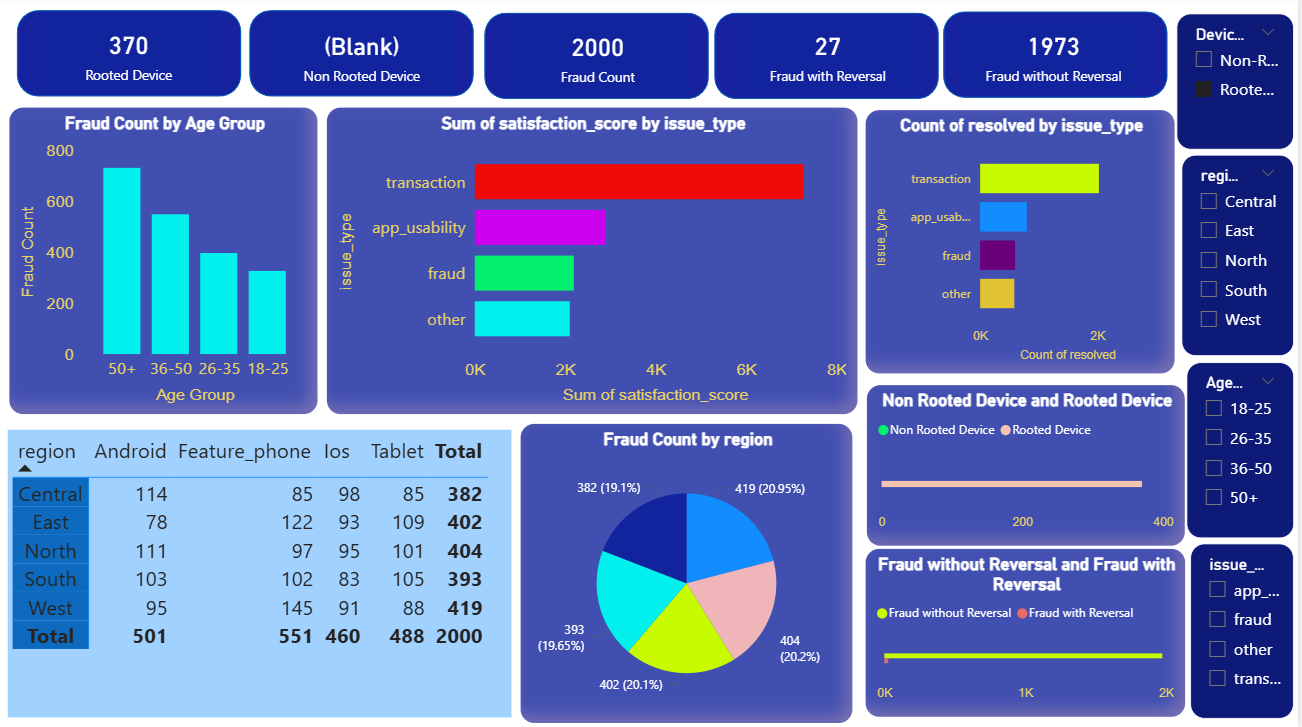

Layout of this report page (visuals, bound fields, positions):
{"tool":"powerbi","page":{"name":"Fraud Analysis-2","canvas":[1280,720],"ordinal":4},"visuals":[{"type":"shape","box":[922.5,6.3,238.2,102.8],"z":0,"group":"g1"},{"type":"clusteredColumnChart","fields":{"Category":["customer_master.Age Group"],"Y":["upi_transaction_history.Fraud Count"]},"box":[13.5,108,305.5,304.3],"z":0},{"type":"shape","box":[242.3,4.9,238.2,102.8],"z":1000,"group":"g1"},{"type":"pieChart","fields":{"Category":["customer_master.region"],"Y":["upi_transaction_history.Fraud Count"]},"box":[515.3,418.4,328.8,296.9],"z":1000},{"type":"shape","box":[472.7,7.6,238.2,102.8],"z":2000,"group":"g1"},{"type":"clusteredBarChart","fields":{"Y":["upi_transaction_history.Fraud without Reversal","upi_transaction_history.Fraud with Reversal"]},"box":[854,541.1,316.6,168.1],"z":2000},{"type":"group","id":"g1","title":"Group 1","box":[13.5,4.9,1147.2,105.5],"z":3000},{"type":"shape","box":[698.4,7.6,238.2,102.8],"z":3000,"group":"g1"},{"type":"shape","box":[13.5,4.9,238.2,102.8],"z":4000,"group":"g1"},{"type":"clusteredBarChart","fields":{"Y":["device_info.Non Rooted Device","device_info.Rooted Device"]},"box":[855.2,380.4,315.3,160.7],"z":4000},{"type":"card","fields":{"Values":["upi_transaction_history.Fraud Count"]},"box":[504.1,19.8,177.1,78.5],"z":5000,"group":"g1"},{"type":"clusteredBarChart","fields":{"Category":["customer_feedback_surveys.issue_type"],"Y":["Sum(customer_feedback_surveys.satisfaction_score)"]},"box":[325.2,108,523.9,304.3],"z":5000},{"type":"card","fields":{"Values":["device_info.Non Rooted Transactions"]},"box":[269,18.4,184.9,78.5],"z":6000,"group":"g1"},{"type":"pivotTable","fields":{"Values":["Sum(upi_transaction_history.fraud_flag)"],"Rows":["customer_master.region"],"Columns":["upi_transaction_history.device_type"]},"box":[13.5,425.8,494.5,282.2],"z":6000},{"type":"card","fields":{"Values":["device_info.Rooted Transactions"]},"box":[43.3,17.1,178.7,78.5],"z":7000,"group":"g1"},{"type":"slicer","fields":{"Values":["device_info.Device Type"]},"box":[1160.7,17.2,115.3,133.7],"z":7000},{"type":"card","fields":{"Values":["upi_transaction_history.Fraud with Reversal"]},"box":[729.7,19.8,177.1,75.8],"z":8000,"group":"g1"},{"type":"slicer","fields":{"Values":["customer_master.region"]},"box":[1165.7,155.8,110.4,197.5],"z":8000},{"type":"card","fields":{"Values":["upi_transaction_history.Fraud without Reversal"]},"box":[948.5,24.9,183.4,66.3],"z":9000,"group":"g1"},{"type":"clusteredBarChart","fields":{"Category":["customer_feedback_surveys.issue_type"],"Y":["CountNonNull(customer_feedback_surveys.resolved)"]},"box":[854,110.4,306.8,261.4],"z":9000},{"type":"slicer","fields":{"Values":["customer_master.Age Group"]},"box":[1170.6,359.5,105.5,173],"z":10000},{"type":"slicer","fields":{"Values":["customer_feedback_surveys.issue_type"]},"box":[1174.2,537.4,101.8,171.8],"z":11000}]}

Visuals, with their boxes in screenshot pixels (x1, y1, x2, y2), scaled from the page's 1280x720 canvas onto the 1302x727 screenshot:
shape: 938 6 1181 110
clusteredColumnChart - customer_master.Age Group x upi_transaction_history.Fraud Count: 14 109 324 416
shape: 246 5 489 109
pieChart - customer_master.region x upi_transaction_history.Fraud Count: 524 422 859 722
shape: 481 8 723 111
clusteredBarChart - upi_transaction_history.Fraud without Reversal x upi_transaction_history.Fraud with Reversal: 869 546 1191 716
"Group 1" group: 14 5 1181 111
shape: 710 8 953 111
shape: 14 5 256 109
clusteredBarChart - device_info.Non Rooted Device x device_info.Rooted Device: 870 384 1191 546
card - upi_transaction_history.Fraud Count: 513 20 693 99
clusteredBarChart - customer_feedback_surveys.issue_type x Sum(customer_feedback_surveys.satisfaction_score): 331 109 864 416
card - device_info.Non Rooted Transactions: 274 19 462 98
pivotTable - Sum(upi_transaction_history.fraud_flag) x customer_master.region: 14 430 517 715
card - device_info.Rooted Transactions: 44 17 226 97
slicer - device_info.Device Type: 1181 17 1298 152
card - upi_transaction_history.Fraud with Reversal: 742 20 922 97
slicer - customer_master.region: 1186 157 1298 357
card - upi_transaction_history.Fraud without Reversal: 965 25 1151 92
clusteredBarChart - customer_feedback_surveys.issue_type x CountNonNull(customer_feedback_surveys.resolved): 869 111 1181 375
slicer - customer_master.Age Group: 1191 363 1298 538
slicer - customer_feedback_surveys.issue_type: 1194 543 1298 716
